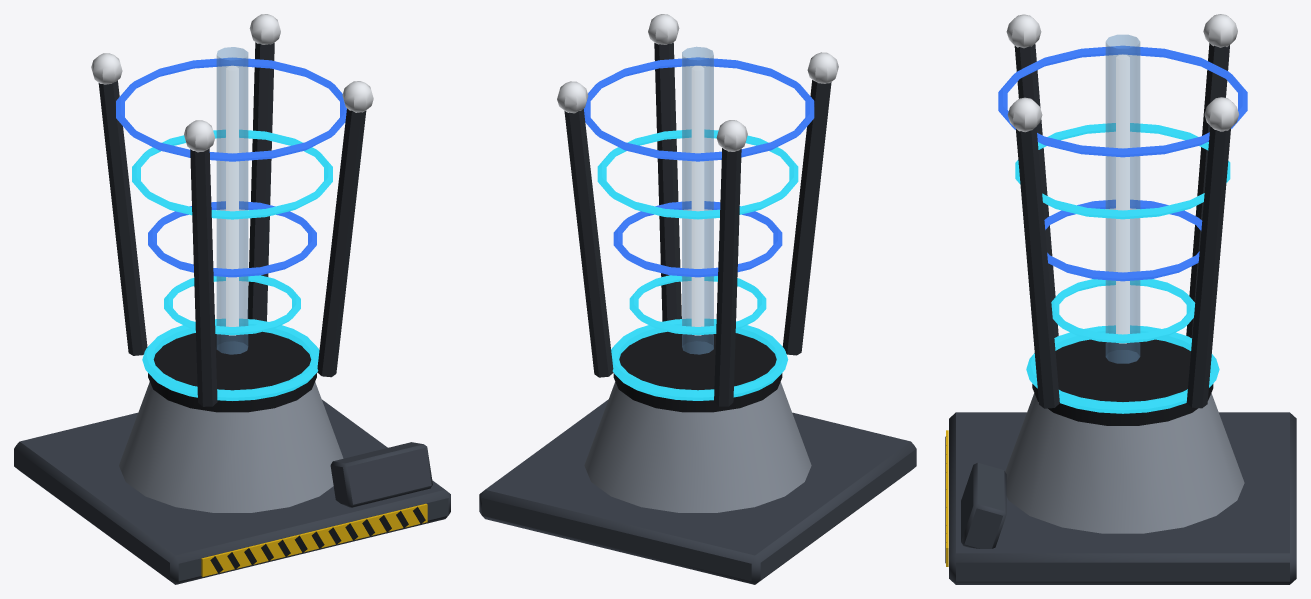
The model's file is particle_tractor_field_emitter.glb.
The picture shows the model from 3 angles, left to right: view 1: azimuth 30°, elevation 25°; view 2: azimuth 150°, elevation 25°; view 3: azimuth 270°, elevation 25°; orthographic projection. The views are drawn at different scales.
Parts seen in each view (by area): view 1: particle_tractor_field_emitter; view 2: particle_tractor_field_emitter; view 3: particle_tractor_field_emitter.
Boxes of the visible parts, x1,y1,x2,y2 form: particle_tractor_field_emitter: [14, 14, 450, 584]; particle_tractor_field_emitter: [479, 14, 916, 584]; particle_tractor_field_emitter: [945, 14, 1296, 584].
Size of the model in its own units: 1 by 1.5 by 1.01.
